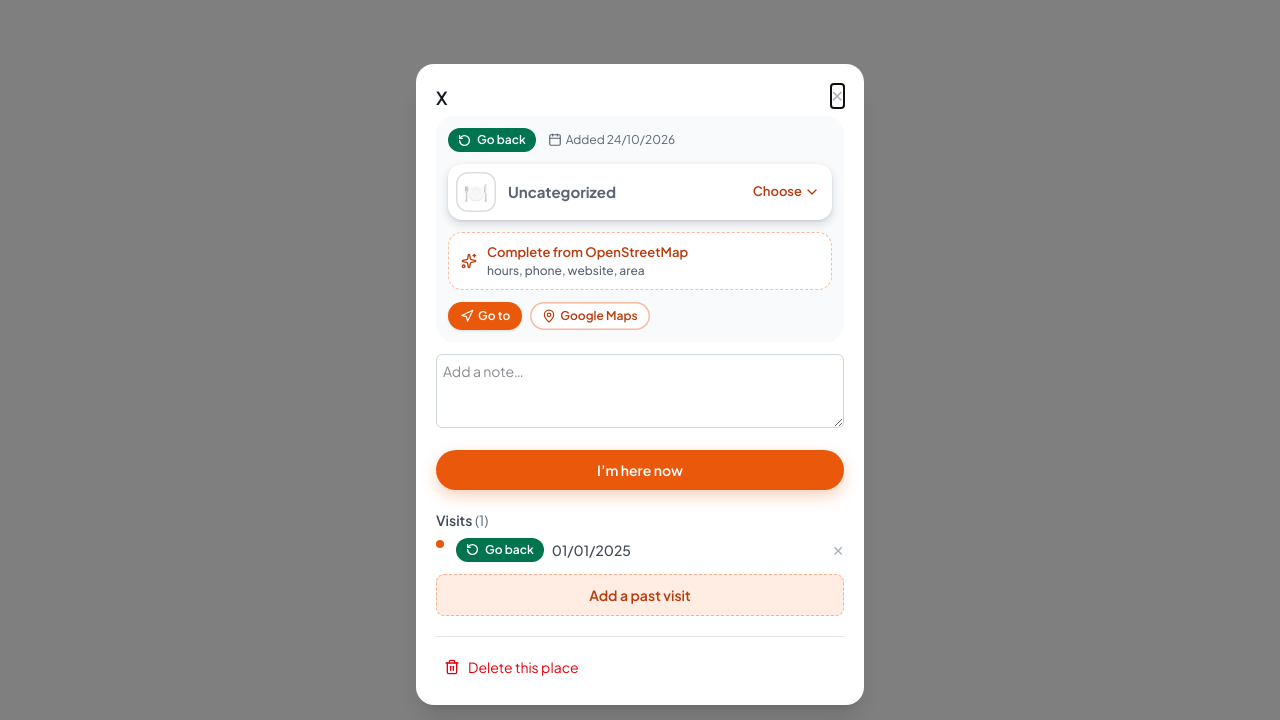
RestaurantDetail › returns a place to to-try when its last visit is deleted
The width and height of the screenshot is (1280, 720).
Click the button named "delete visit on 01/01/2025" at (838, 550), box [832,540,844,560]
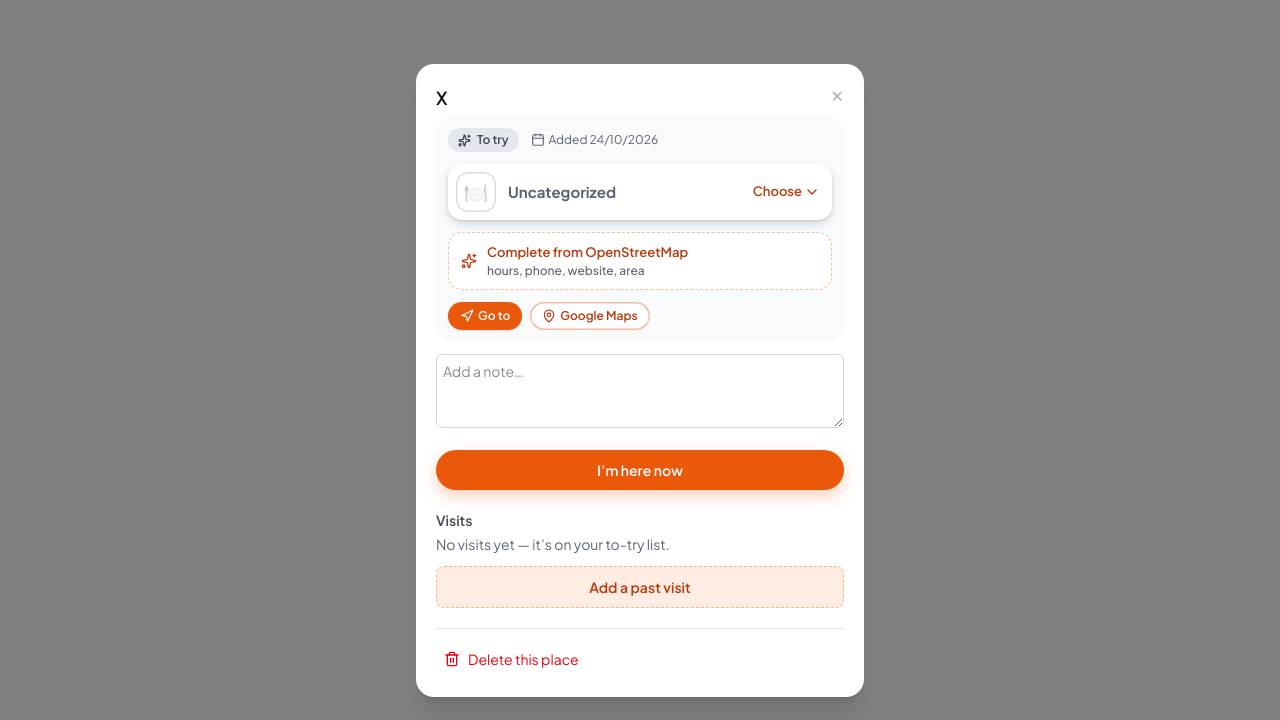
Check: the text "To try" is shown, box [477,132,508,148]
Check: the text "No visits yet — it’s on your to-try list." is shown, box [436,534,670,552]
